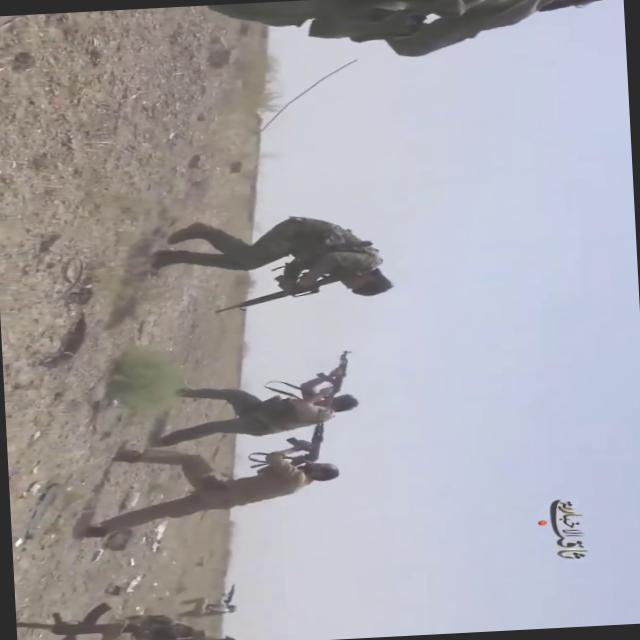long weapon: (208, 264, 366, 323), (308, 342, 367, 412), (279, 414, 336, 474)
